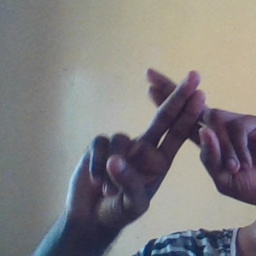F: (109, 63, 254, 184)
